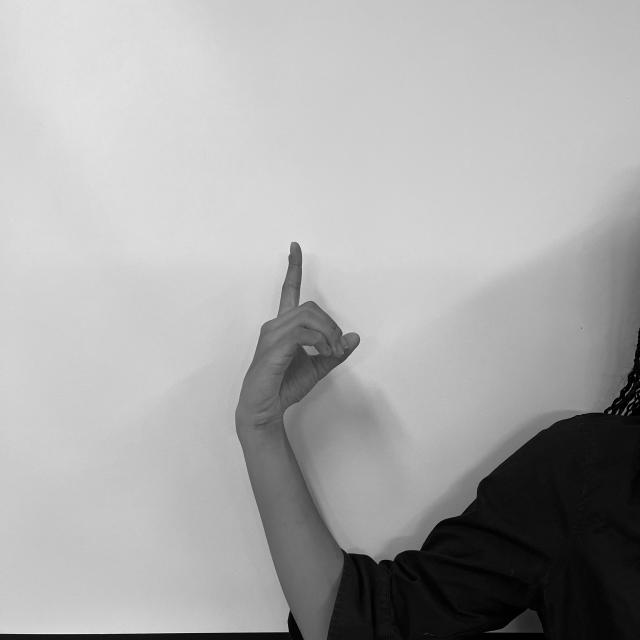Letra D: (229, 237, 365, 432)
